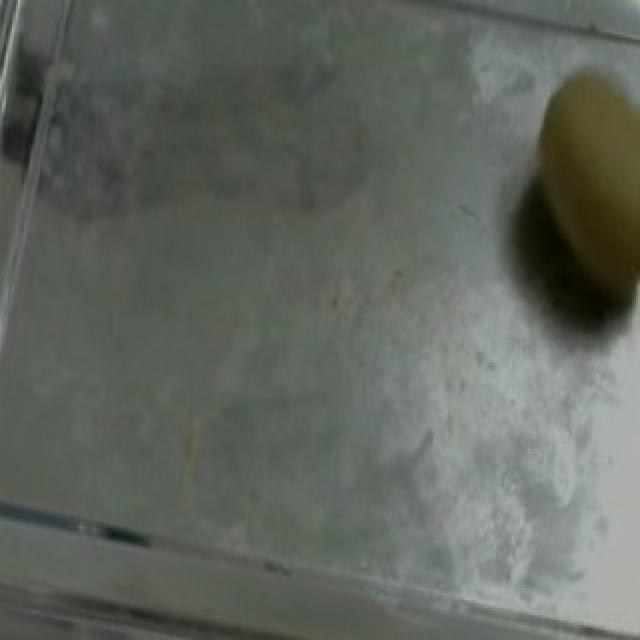Fruit: (500, 62, 640, 340)
